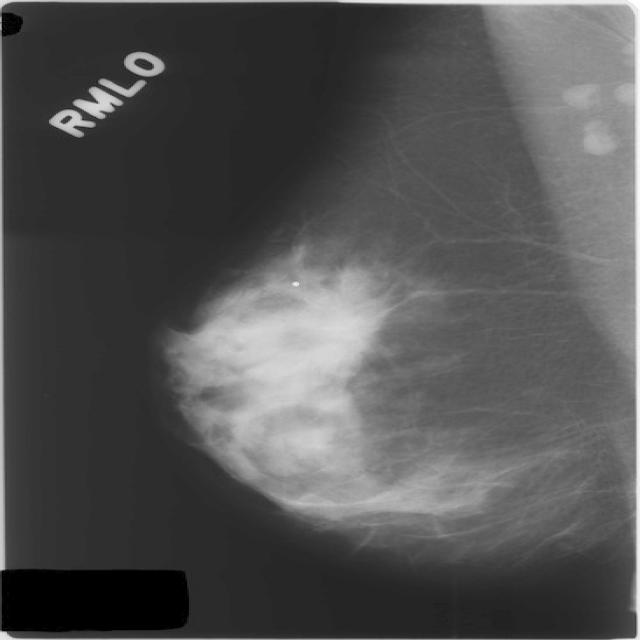tumour: (296, 268, 394, 349)
